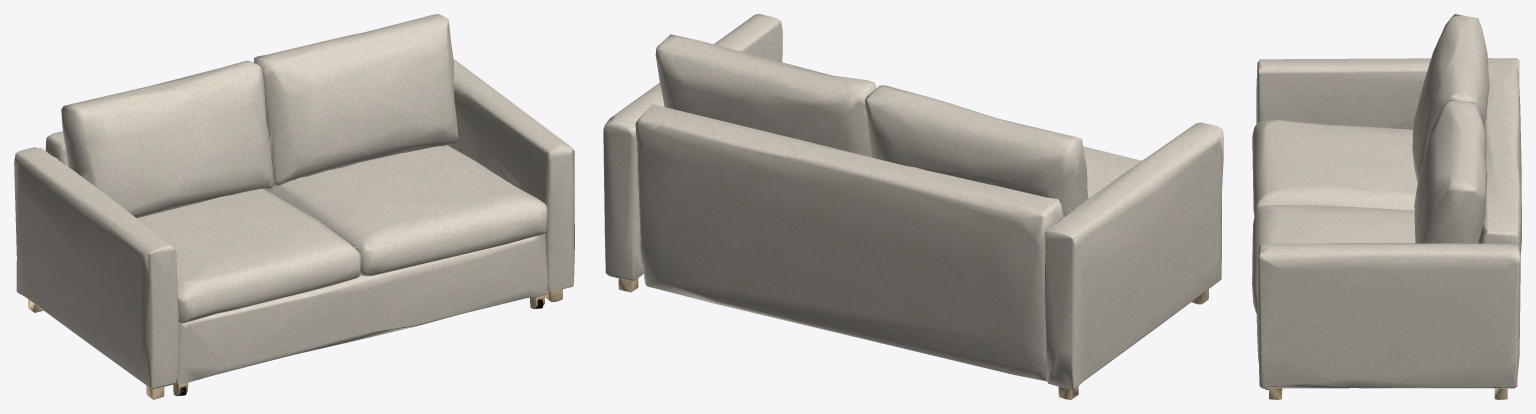
Rendered from saltsjobaden_sofa_2_osobowa_rozkadana_59621432.glb.
3 views of the same model, side by side, from view 1: azimuth 30°, elevation 25°; view 2: azimuth 150°, elevation 25°; view 3: azimuth 270°, elevation 25° (orthographic). The views are drawn at different scales.
Parts seen in each view (by area): view 1: saltsjobaden_sofa_2_osobowa_rozkadana_59621432; view 2: saltsjobaden_sofa_2_osobowa_rozkadana_59621432; view 3: saltsjobaden_sofa_2_osobowa_rozkadana_59621432.
Boxes of the visible parts, x1=… form: saltsjobaden_sofa_2_osobowa_rozkadana_59621432: x1=14, y1=14, x2=574, y2=399; saltsjobaden_sofa_2_osobowa_rozkadana_59621432: x1=603, y1=14, x2=1223, y2=399; saltsjobaden_sofa_2_osobowa_rozkadana_59621432: x1=1252, y1=14, x2=1521, y2=399.
Bounding box in the file's own units: 1.88 × 0.9056 × 1.06.
Materials: 1 (1 with a texture image).
